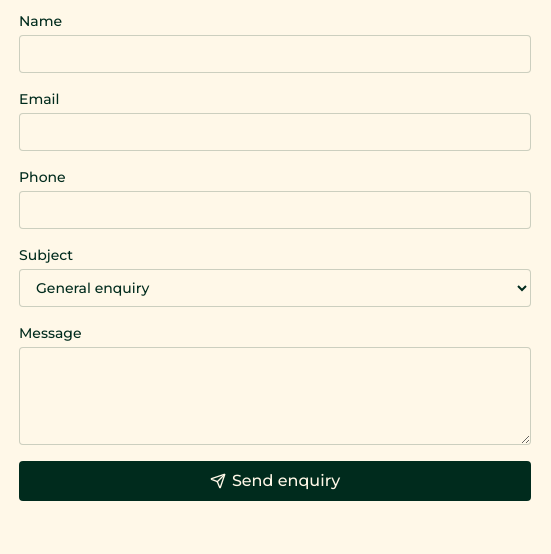
Test: EnquiryForm › submits the enquiry and shows a success message
This screenshot has width=551, height=554.
Type "Jane Doe" into the field labelled "Name" at [275, 54], box [19, 35, 531, 73]
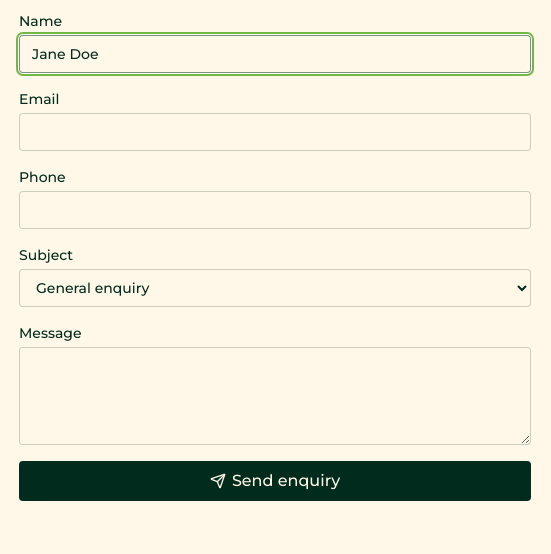
Type "jane@example.com" into the field labelled "Email" at [275, 132], box [19, 113, 531, 151]
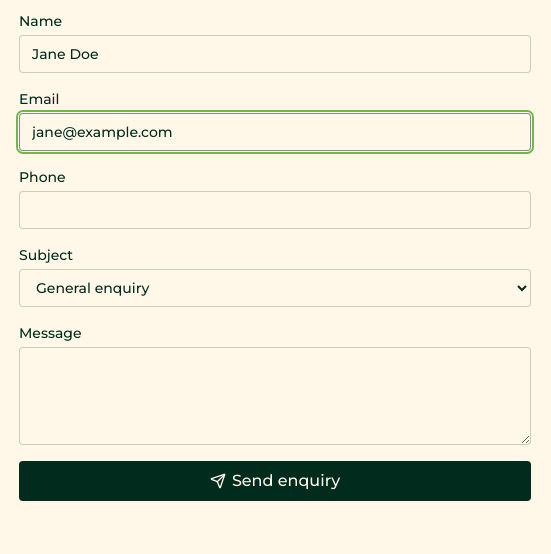
Type "9999999999" into the field labelled "Phone" at [275, 210], box [19, 191, 531, 229]
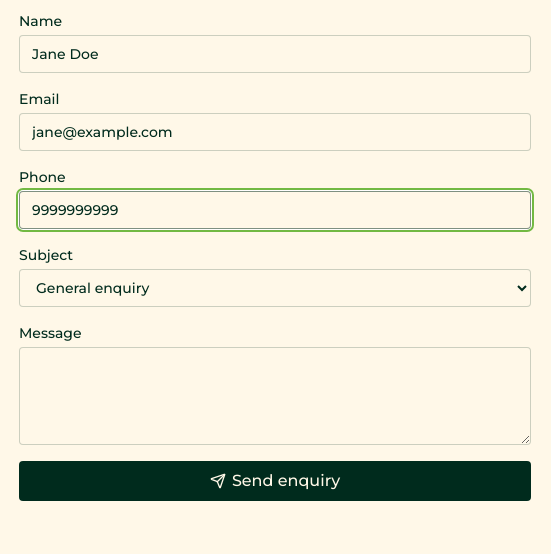
Type "Interested in your products." into the text box labelled "Message" at [275, 396], box [19, 347, 531, 445]
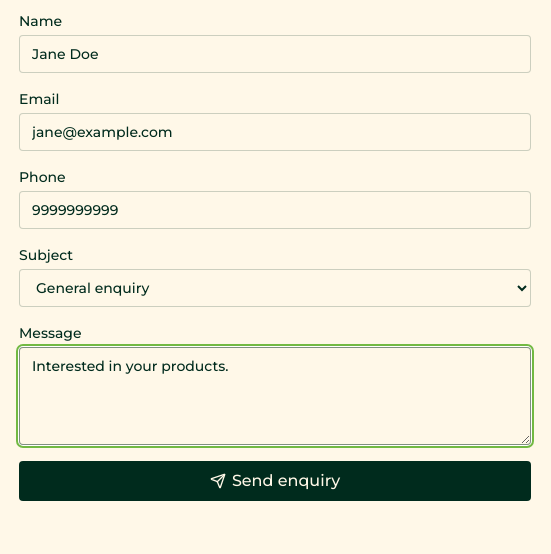
Click the button "Send enquiry" at [275, 481], box [19, 461, 531, 501]
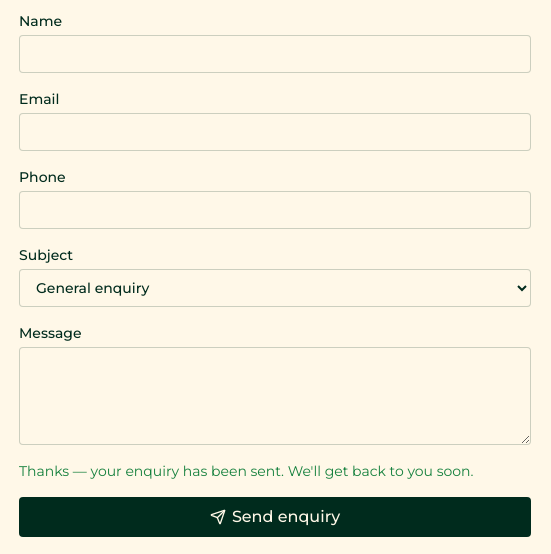
Expected: the text "Thanks" is shown, [19, 462, 474, 480]
